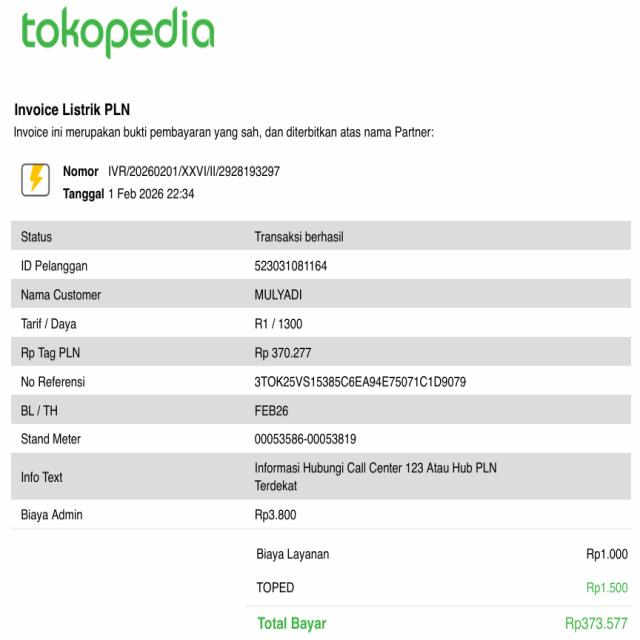date: (106, 185, 200, 204)
store: (17, 8, 225, 58), (13, 97, 142, 124)
total: (251, 605, 637, 640)
